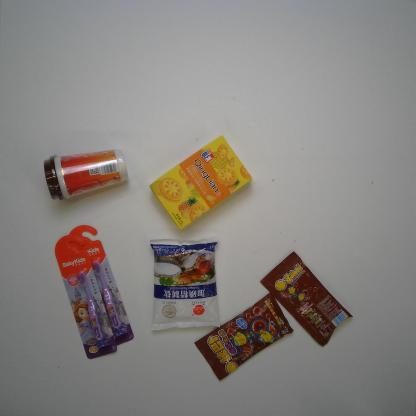Candy: (258, 248, 354, 349), (194, 292, 294, 383)
Dessert: (146, 132, 253, 232)
Instant Drink: (40, 145, 132, 206)
Personal Hygiene: (67, 224, 135, 349), (53, 232, 118, 360)
Seasoner: (147, 236, 222, 332)
